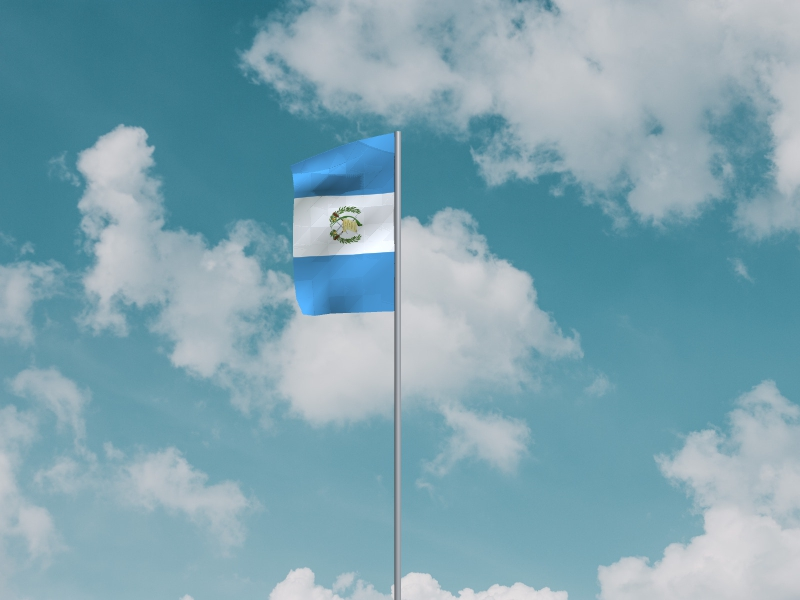gt: (289, 133, 395, 318)
